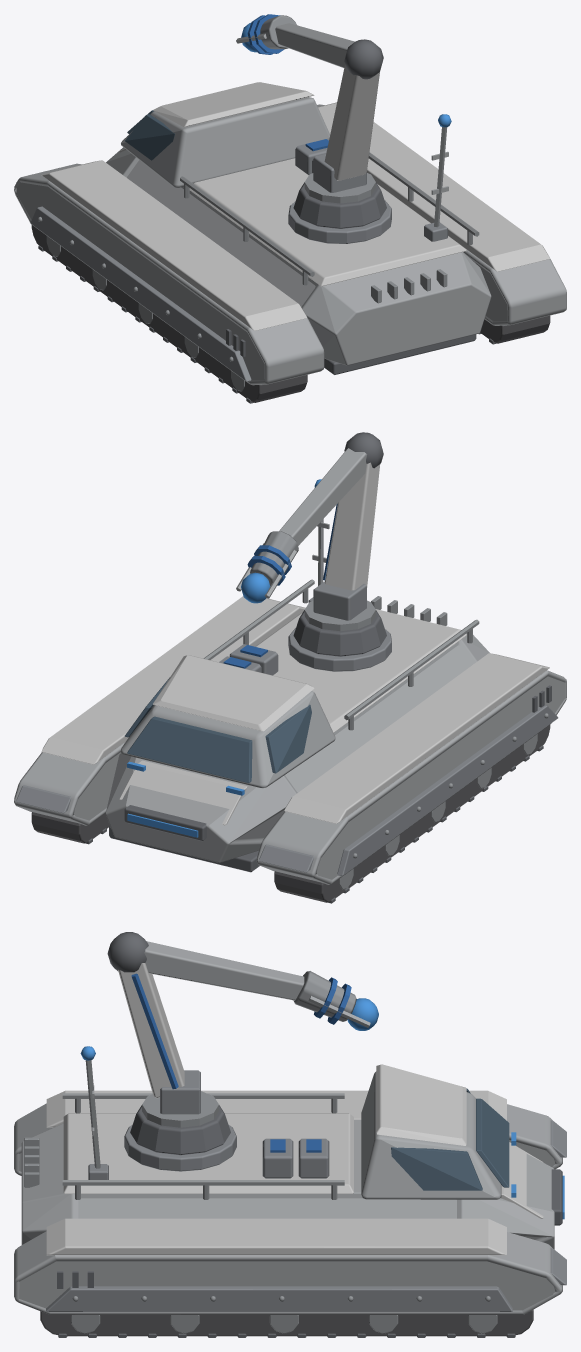
The model's file is lattice_builder_vehicle.glb.
3 views of the same model, one above another, from view 1: azimuth 30°, elevation 25°; view 2: azimuth 150°, elevation 25°; view 3: azimuth 270°, elevation 25° (orthographic). The views are drawn at different scales.
Parts seen in each view (by area): view 1: Body; view 2: Body; view 3: Body.
Boxes of the visible parts, x1,y1,x2,y2 form: Body: (14, 14, 566, 403); Body: (14, 432, 566, 903); Body: (14, 932, 566, 1337).
Size of the model in its own units: 1.55 by 1.41 by 2.16.
